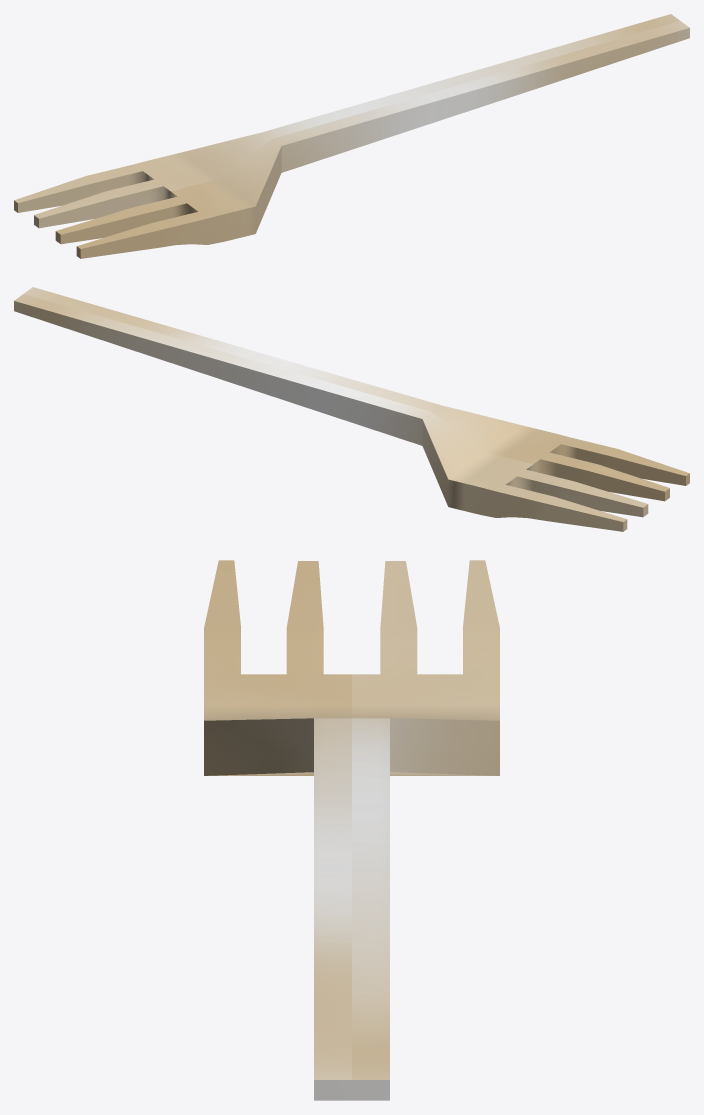
Rendered from Fork.fbx.
3 renders of one model, top to bottom at view 1: azimuth 30°, elevation 25°; view 2: azimuth 150°, elevation 25°; view 3: azimuth 270°, elevation 25°, orthographic. The views are drawn at different scales.
Parts seen in each view (by area): view 1: pCube1; view 2: pCube1; view 3: pCube1.
Part boxes in pixels (bbox=[...]): pCube1: bbox=[14, 14, 689, 258]; pCube1: bbox=[14, 287, 689, 531]; pCube1: bbox=[204, 560, 499, 1100].
Bounding box in the file's own units: 4.94 × 0.5479 × 1.
1 material, 1 textured.
